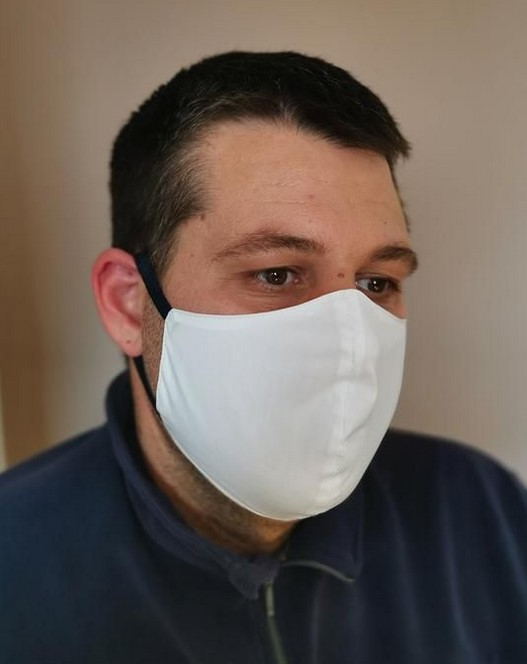face_with_mask: (92, 49, 418, 526)
